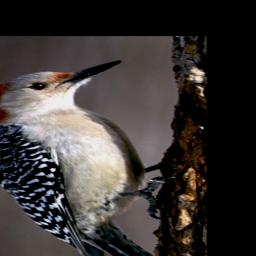Woodpecker: (0, 60, 174, 256)
